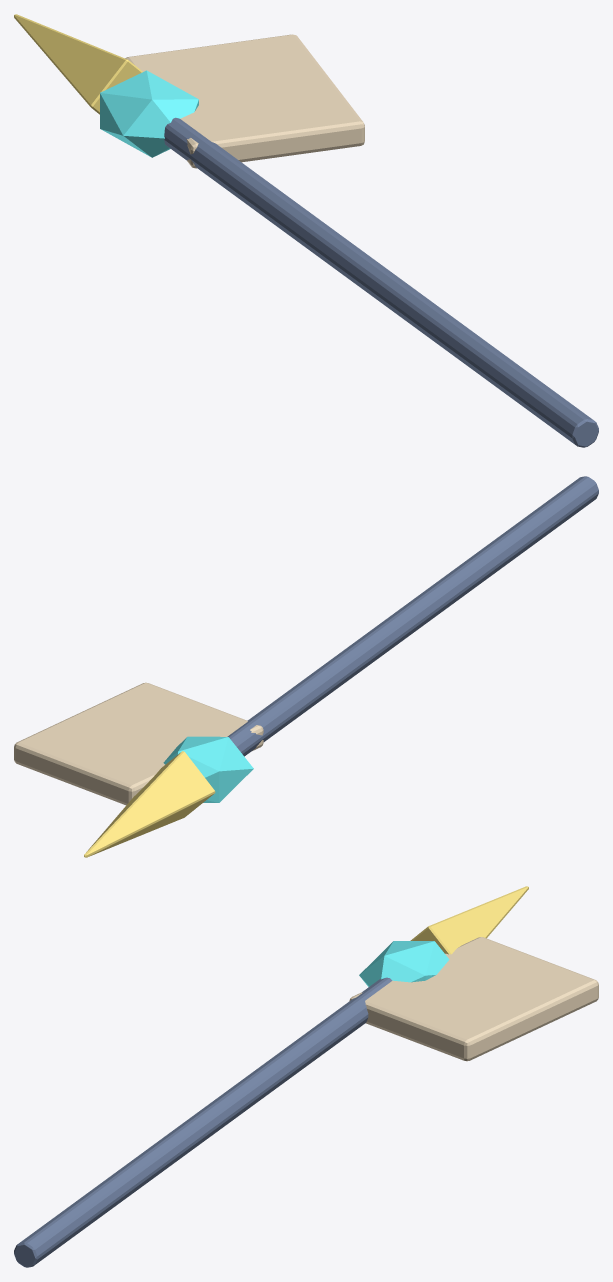
Rendered from Weapon_StormHalberd.fbx.
The picture shows the model from 3 angles, top to bottom: view 1: azimuth 30°, elevation 25°; view 2: azimuth 150°, elevation 25°; view 3: azimuth 330°, elevation 25°; orthographic projection. The views are drawn at different scales.
Parts seen in each view (by area): view 1: AxeBlade, Shaft, StormCore, SpearTip; view 2: AxeBlade, Shaft, SpearTip, StormCore; view 3: AxeBlade, Shaft, SpearTip, StormCore.
Boxes of the visible parts, box(x1,y1,x2,y2) form: AxeBlade: box(125, 34, 364, 168); Shaft: box(164, 117, 598, 447); StormCore: box(100, 70, 198, 157); SpearTip: box(14, 14, 142, 114); AxeBlade: box(14, 682, 263, 805); Shaft: box(227, 476, 598, 756); SpearTip: box(84, 751, 215, 857); StormCore: box(163, 736, 253, 802); AxeBlade: box(349, 937, 598, 1061); Shaft: box(14, 977, 392, 1267); SpearTip: box(410, 886, 528, 954); StormCore: box(359, 941, 449, 986).
Bounding box in the file's own units: 0.4773 × 0.1537 × 2.12.
